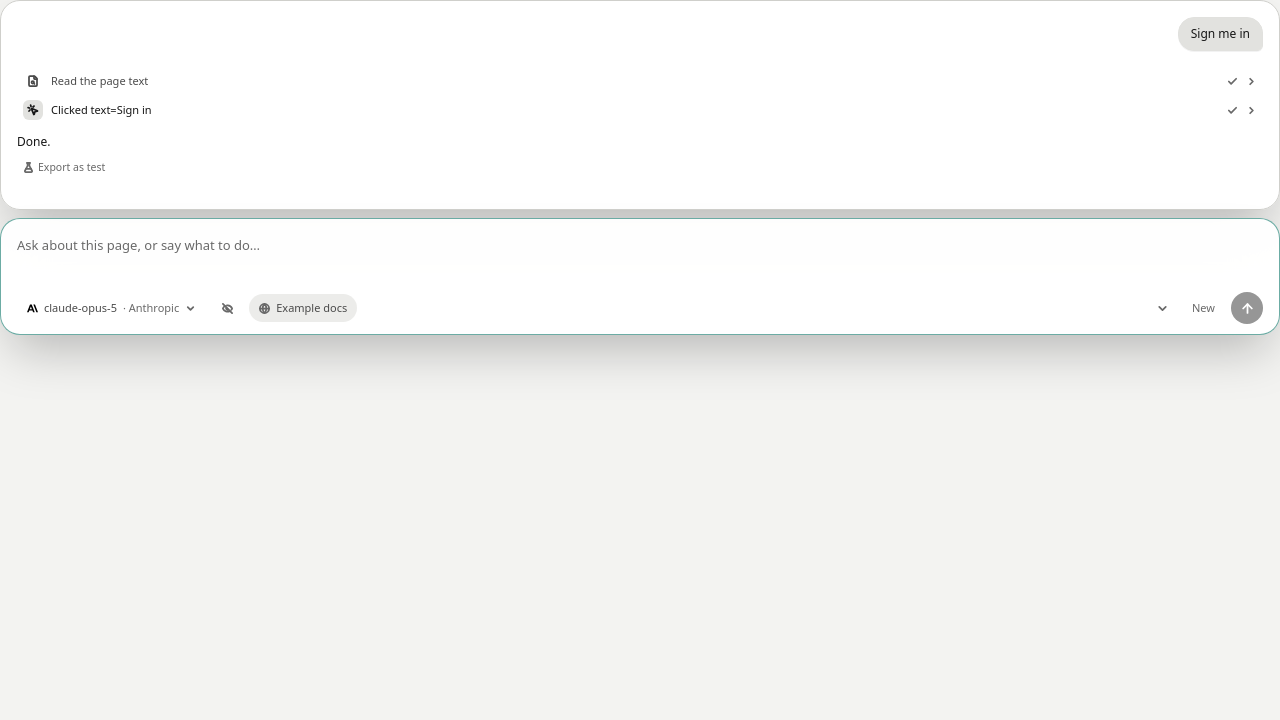
Test: Thread › offers the run as a Playwright test once it has changed the page, and not before
Click the button "Export as test" at (64, 167), box [17,158,111,177]
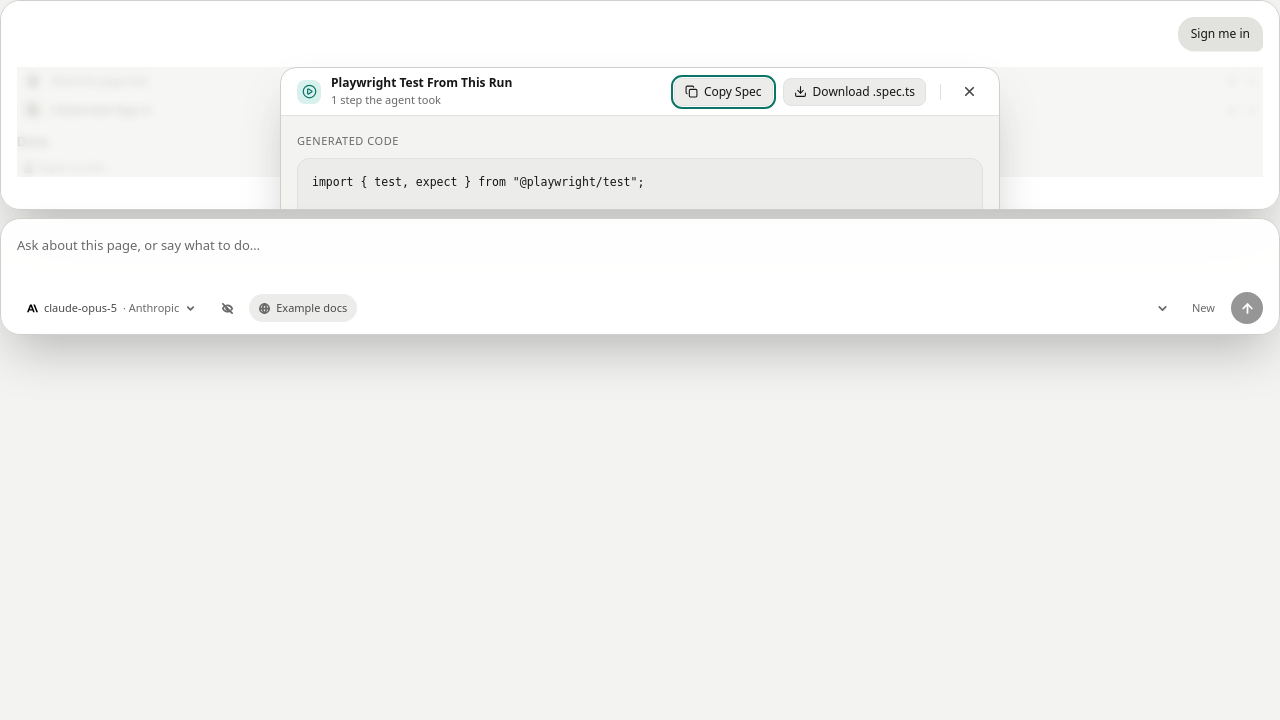
Check: the dialog "Playwright Test From This Run" shows "test(\"Sign me in\"", box [312,175,720,301]
Check: the dialog "Playwright Test From This Run" shows "await page.goto(\"https://example.com/docs\")", box [312,175,720,301]
Check: the dialog "Playwright Test From This Run" shows "getByText('Sign in').click()", box [312,175,720,301]
